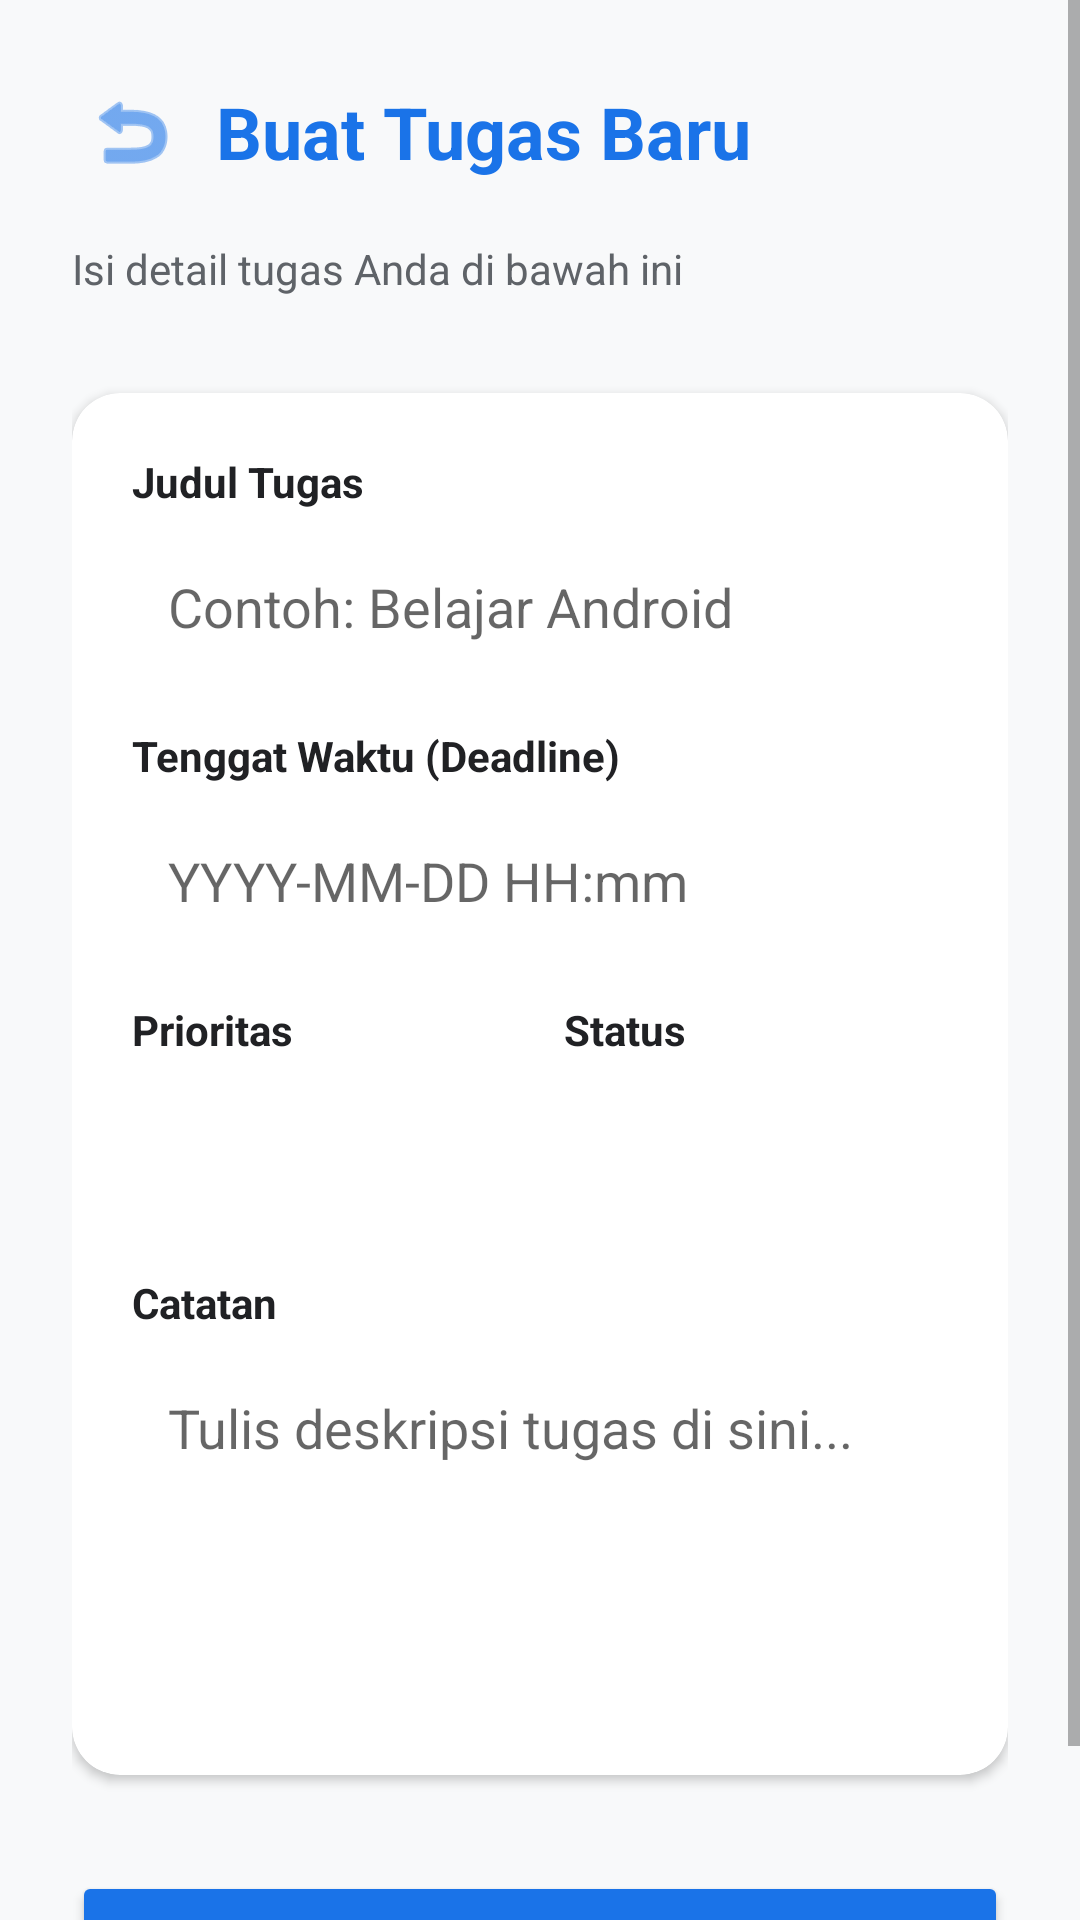

Where icons sit on this 1080 x 1920 app screen, as (x1, y1, x2, y2):
Kembali: (99, 101, 168, 164)
